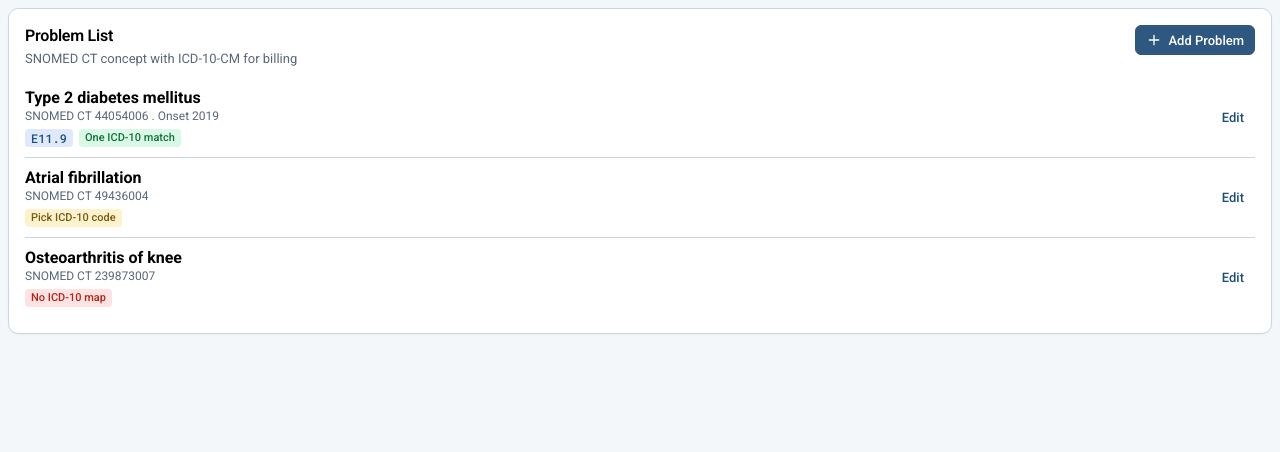
Scenario: ProblemListEditor › resolves a problem
Click the button with aria-label "Edit Type 2 diabetes mellitus" at (1233, 118), box [1211,102,1255,132]
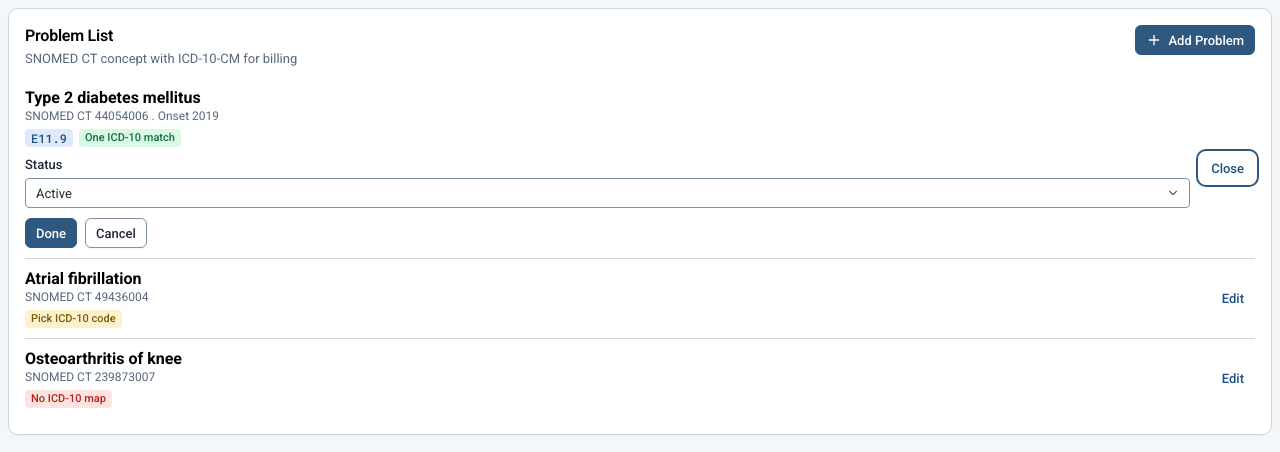
Expected: the button with aria-label "Close Type 2 diabetes mellitus" is expanded, [1200,153,1255,183]
Select "Resolved" in the dropdown labelled "Status" at (608, 193), box [25,178,1190,208]
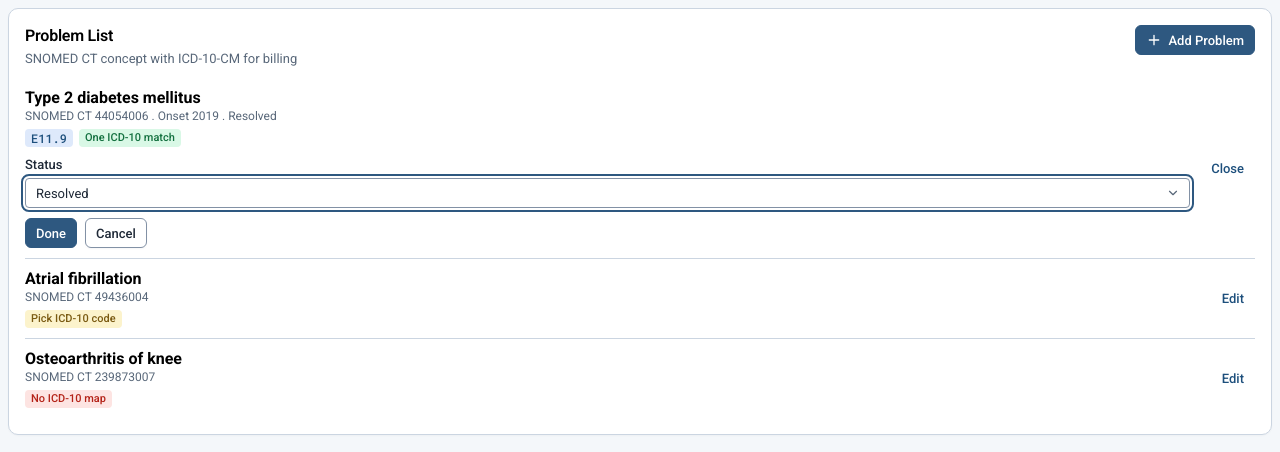
Click the button "Done" at (51, 233), box [25,218,77,248]
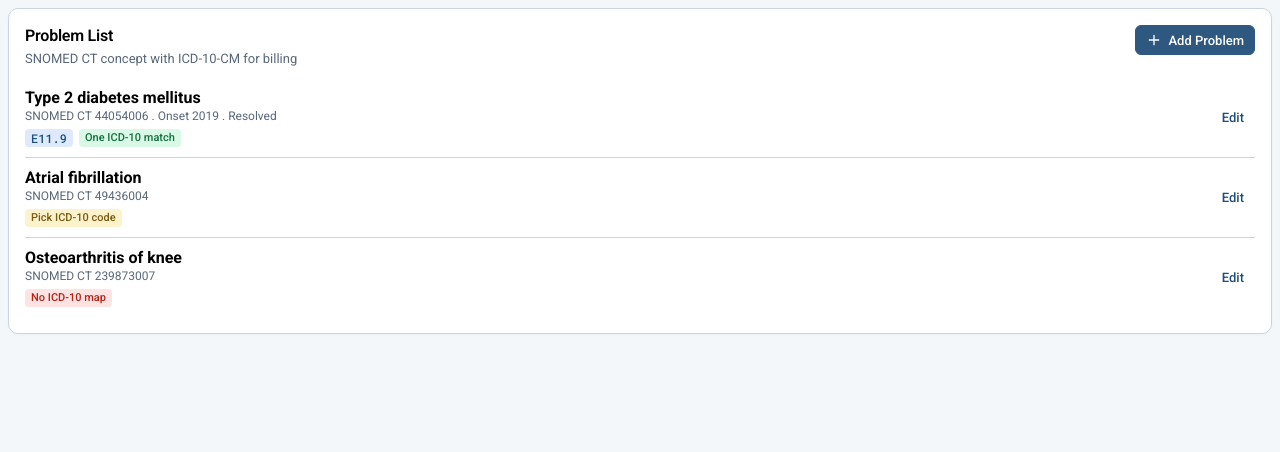
Expected: the list item "Type 2 diabetes mellitus" shows "SNOMED CT 44054006 . Onset 2019 . Resolved", [25,109,277,123]
Expected: the label labelled "Status" is gone
